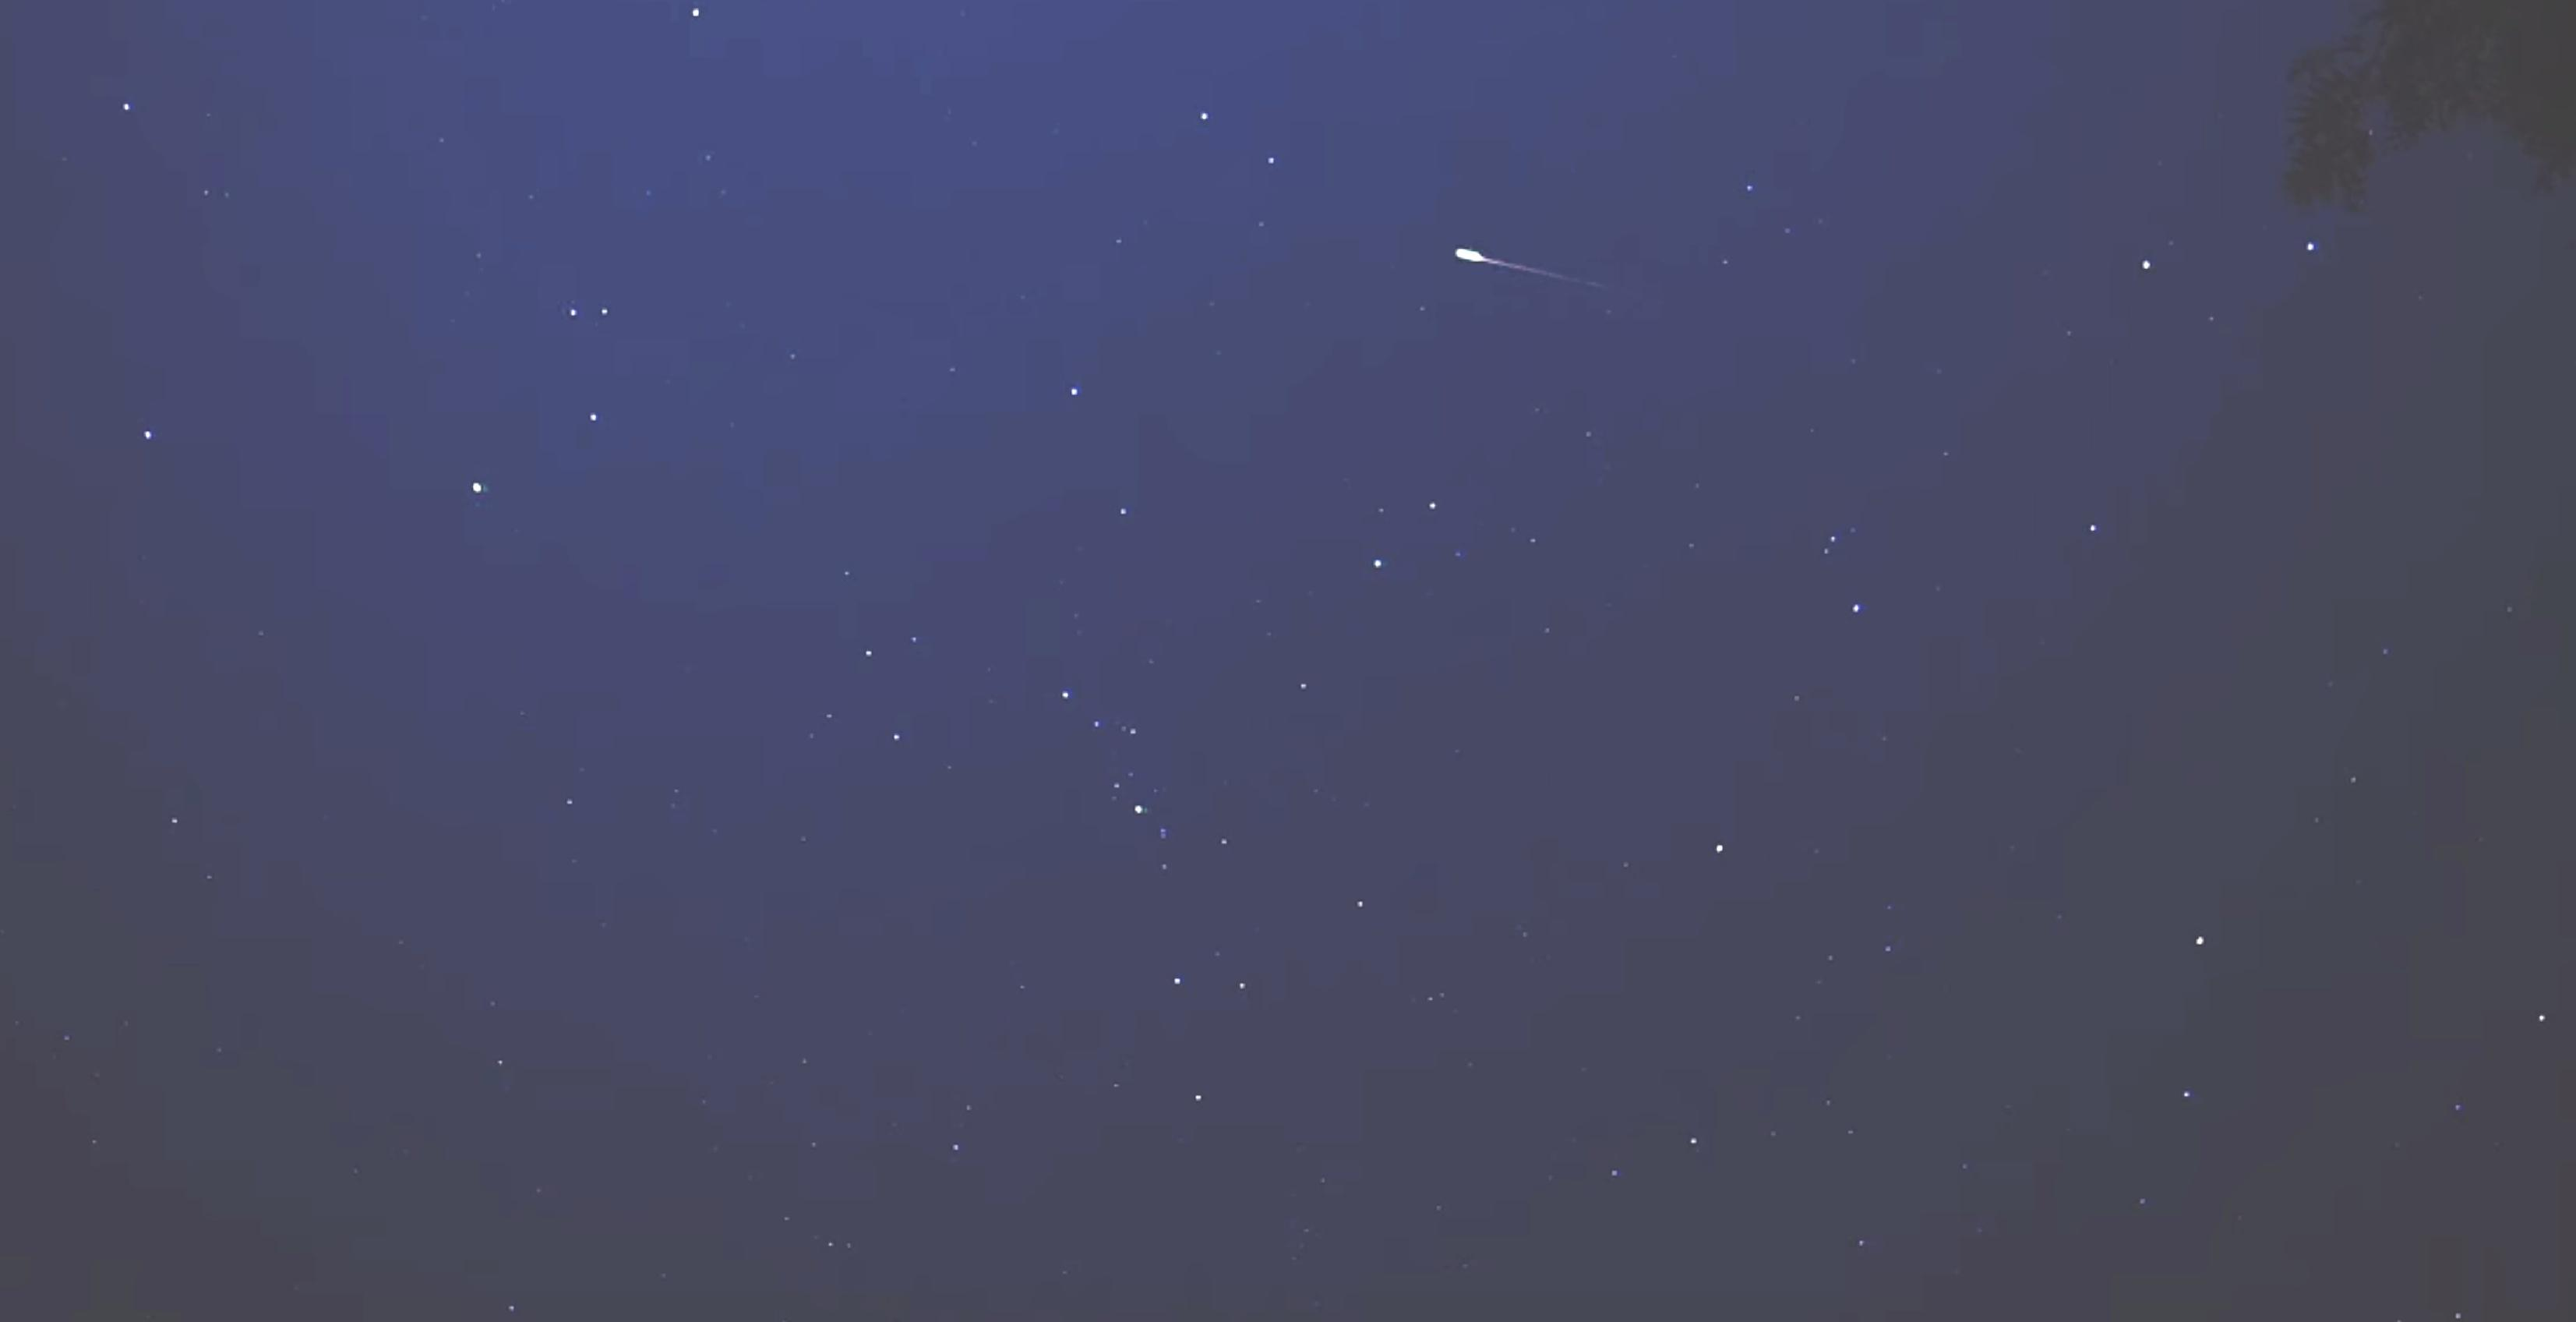meteorite: (1387, 234, 1668, 300)
